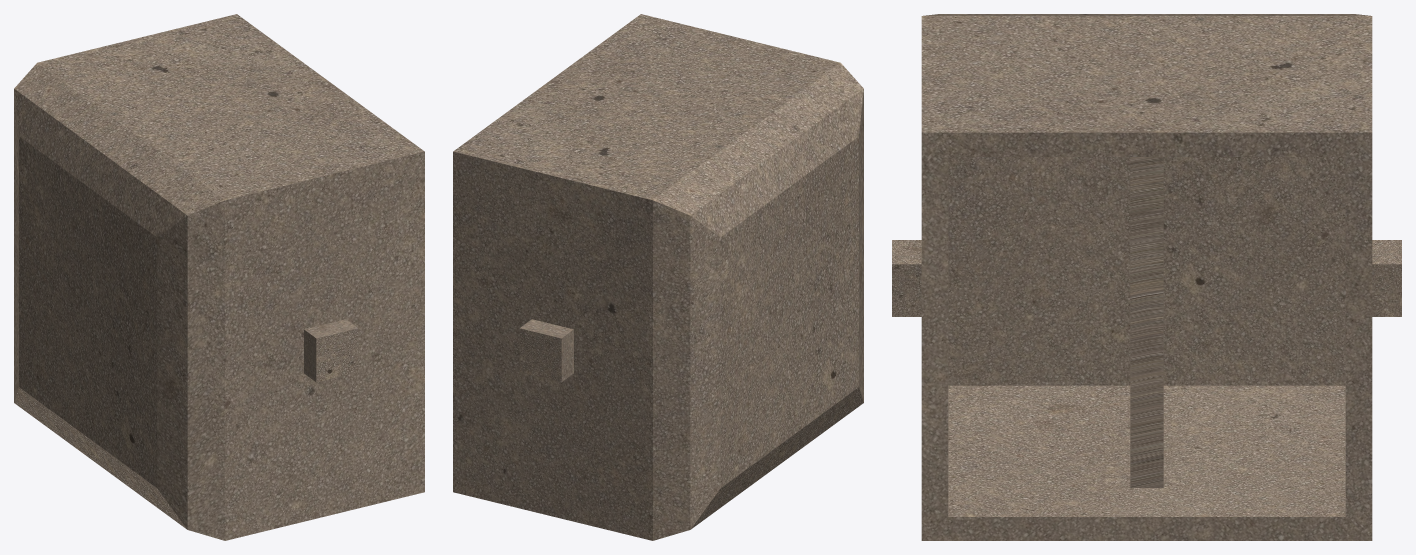
Rendered from mdl_apa_EquilateralInput_Case.gltf.
3 renders of one model, left to right at view 1: azimuth 30°, elevation 25°; view 2: azimuth 150°, elevation 25°; view 3: azimuth 270°, elevation 25°, orthographic. The views are drawn at different scales.
Visible parts, largest first — view 1: Cube.001; view 2: Cube.001; view 3: Cube.001.
Boxes of the visible parts, <box> form: Cube.001: <box>14,14,424,540</box>; Cube.001: <box>453,14,863,540</box>; Cube.001: <box>892,14,1401,540</box>.
Bounding box in the file's own units: 1.96 × 2.63 × 2.97.
Materials: 1 (1 with a texture image).
